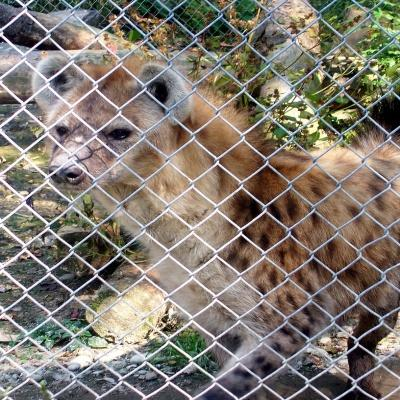hyenas: (22, 17, 400, 386)
